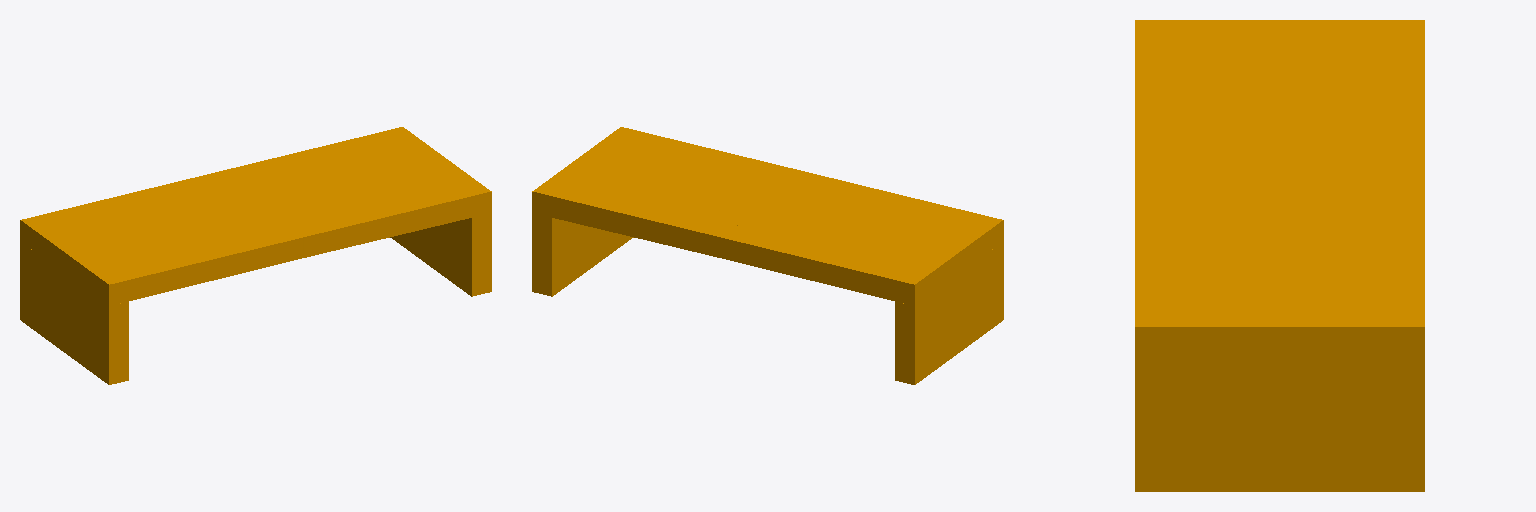
robot.urdf — table:
<?xml version="1.0" encoding="UTF-8"?>
<robot name="table">
	<link name="base">
		<collision>
			<geometry>
				<mesh filename="../vhacd/table_vhacd.obj" scale="1.0 1.0 1.0"/>
			</geometry>
			<origin xyz="0 0 0"/>
			<contact_coefficients mu="0.24" />
		</collision>
		<visual>
			<geometry>
				<mesh filename="../vhacd/table_vhacd.obj" scale="1.0 1.0 1.0"/>
			</geometry>
			<origin xyz="0 0 0"/>
		</visual>
		<inertial>
			<mass value="0"/>
			<inertia ixx="0.0" ixy="-0.0" ixz="0.0" iyy="0.0" iyz="-0.0" izz="0.0" />
			<origin xyz="1.0000000287379538 0.40000000596046437 0.3785714212881057"/>
		</inertial>
	</link>
</robot>

--- Render facts (derived) ---
3 views of the same robot in one strip: view 1: azimuth 30°, elevation 25°; view 2: azimuth 150°, elevation 25°; view 3: azimuth 270°, elevation 25° (orthographic).
Model table with 1 links and 0 joints (none), rooted at base, posed every joint at zero.
Visible links, largest first — view 1: base; view 2: base; view 3: base.
Boxes of the visible links, x1,y1,x2,y2 form: base: (20, 127, 491, 384); base: (532, 127, 1003, 384); base: (1135, 20, 1424, 491).
Size in the robot's own frame: 2 by 0.8037 by 0.503 metres.
Meshes: 1 distinct files referenced, 1 mesh visuals loaded (1 OBJ).